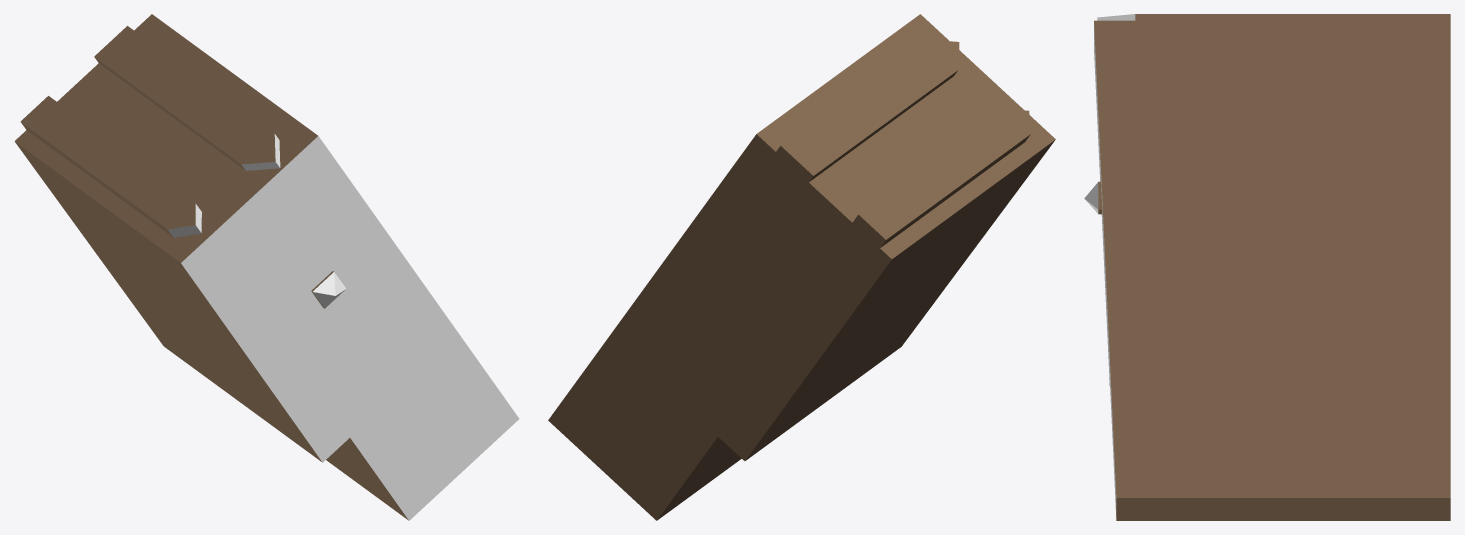
3 views of the same model, side by side, from view 1: azimuth 30°, elevation 25°; view 2: azimuth 150°, elevation 25°; view 3: azimuth 270°, elevation 25° (orthographic). The views are drawn at different scales.
Parts seen in each view (by area): view 1: City_PC-08672; view 2: City_PC-08672; view 3: City_PC-08672.
Boxes of the visible parts, <box> form: City_PC-08672: <box>14,14,519,520</box>; City_PC-08672: <box>548,14,1055,520</box>; City_PC-08672: <box>1084,14,1450,520</box>.
Bounding box in the file's own units: 1615 × 1845 × 1370.
